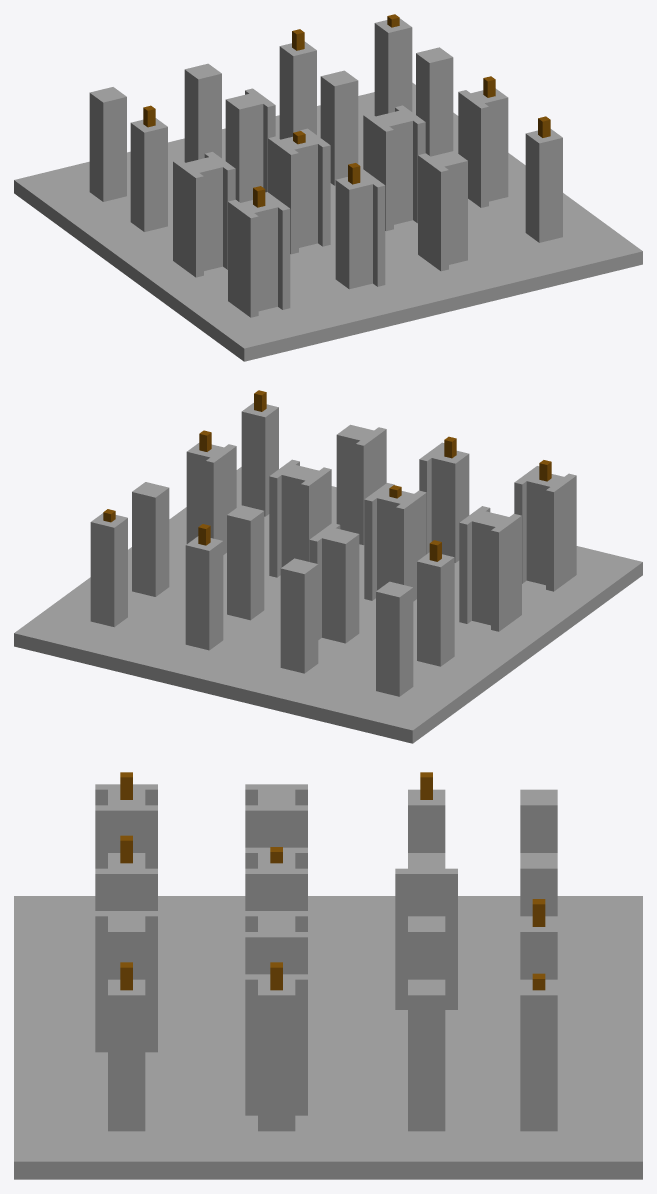
Rendered from Construction Phase.fbx.
3 renders of one model, top to bottom at view 1: azimuth 30°, elevation 25°; view 2: azimuth 150°, elevation 25°; view 3: azimuth 270°, elevation 25°, orthographic. The views are drawn at different scales.
Parts seen in each view (by area): view 1: Comstruction_Phase; view 2: Comstruction_Phase; view 3: Comstruction_Phase.
Boxes of the visible parts, bbox=[...] form: Comstruction_Phase: bbox=[14, 14, 642, 361]; Comstruction_Phase: bbox=[14, 390, 642, 743]; Comstruction_Phase: bbox=[14, 772, 642, 1179].
Bounding box in the file's own units: 101 × 31.2 × 101.
